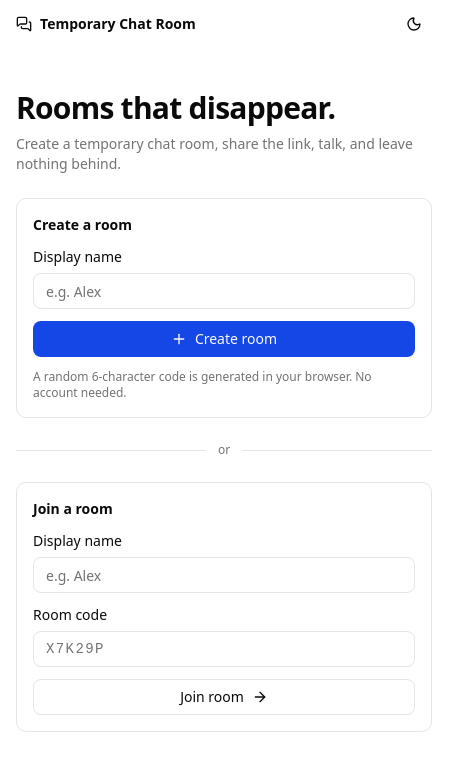
Test: HomePage join-room flow › rejects an invalid room code
The image size is (449, 757).
Type "Sam" into the field with id "join-name" at (224, 575), box 33,557 -> 415,593
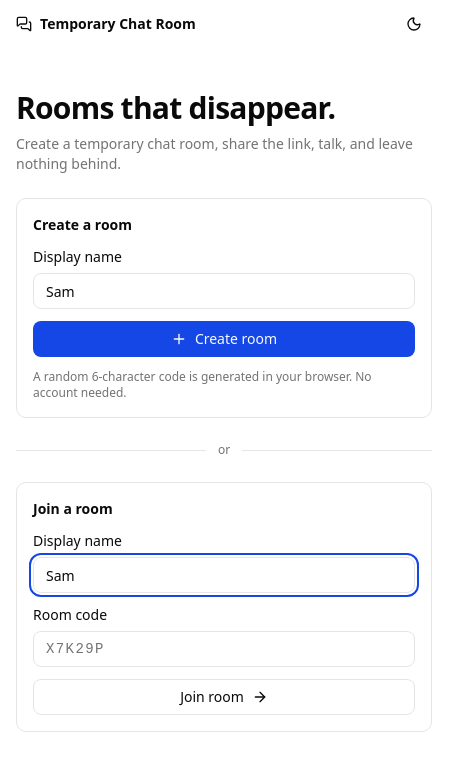
Type "AB12" into the field with id "join-code" at (224, 649), box 33,631 -> 415,667
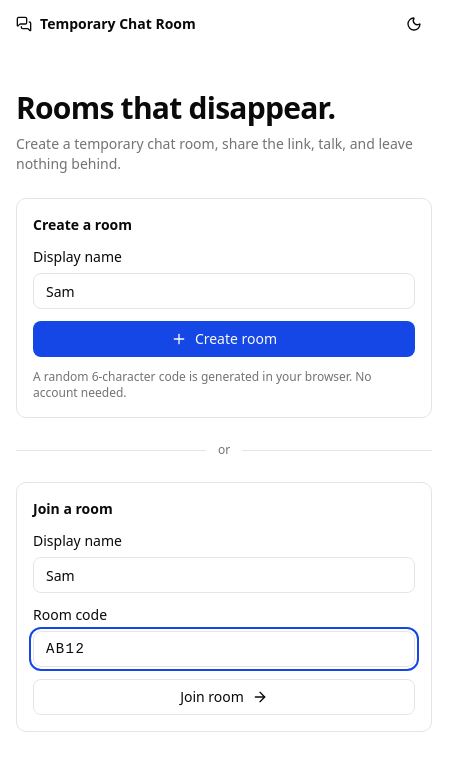
Click the button "Join room" at (224, 697), box 33,679 -> 415,715
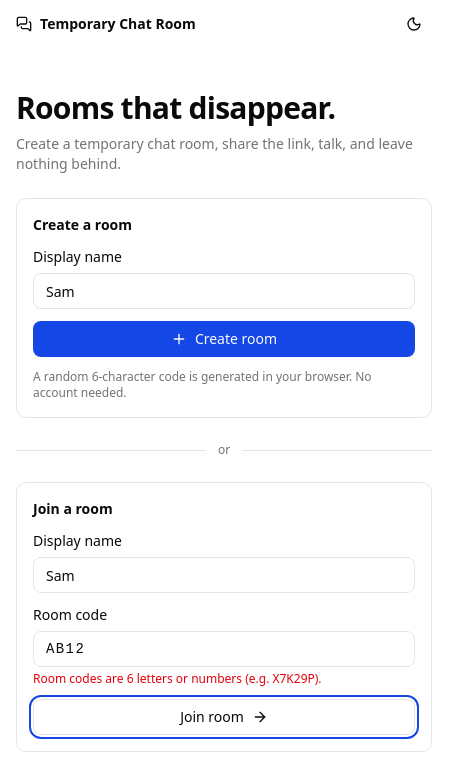
Result: the text "Room codes are 6 letters or numbers (e.g. X7K29P)." is shown at 33,670 -> 322,687
